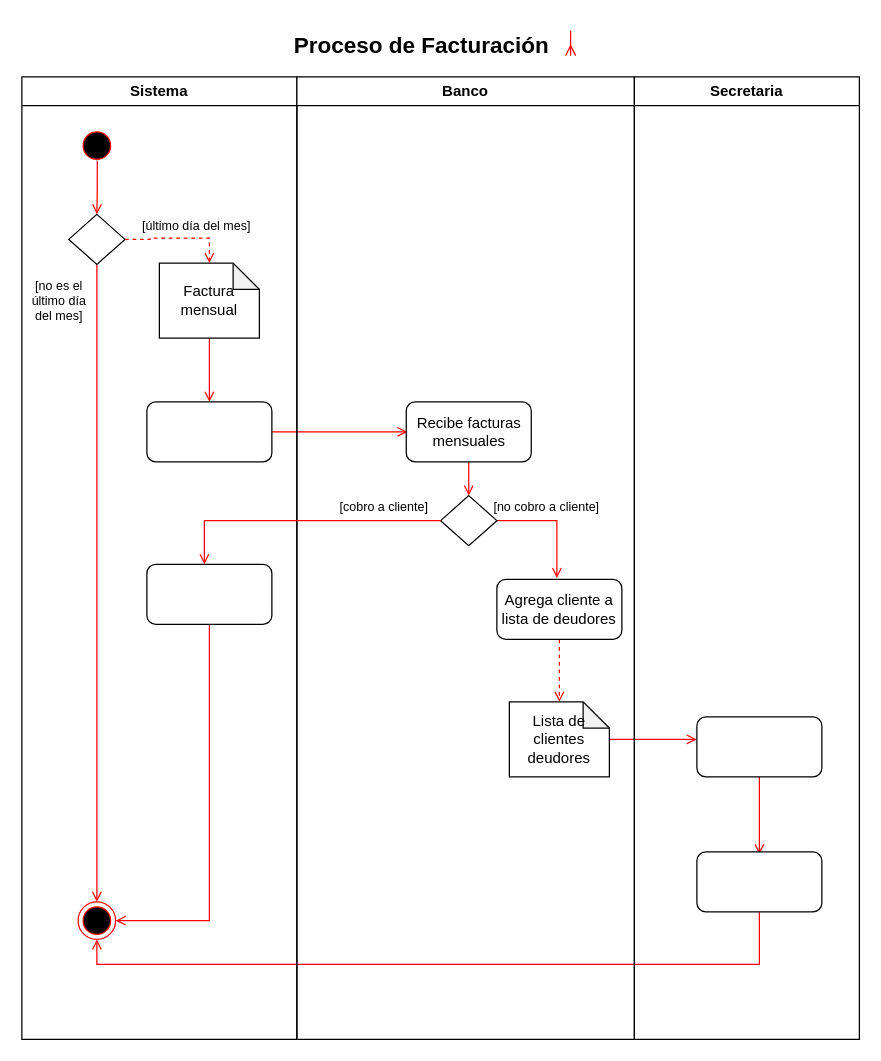
Some shapes in this 881 by 1061 pixel diagram are drawn without their labels. The centre of each missing label's shape, as x and y in pixels:
"Enviar facturas mensuales de los clientes" belongs at pixel 209 431.
"Gestiona pagos atrasados" belongs at pixel 759 881.
"Modifica el estado de la factura" belongs at pixel 209 593.
"Recibe lista de clientes deudores" belongs at pixel 759 746.
